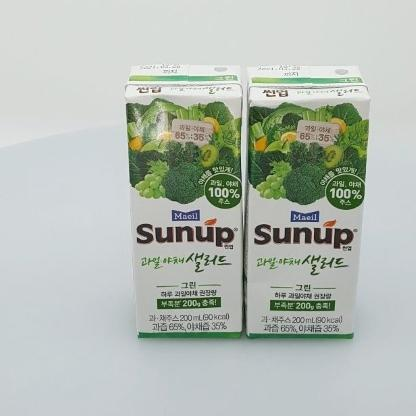-------------200ML: (244, 64, 370, 338), (124, 63, 244, 338)
